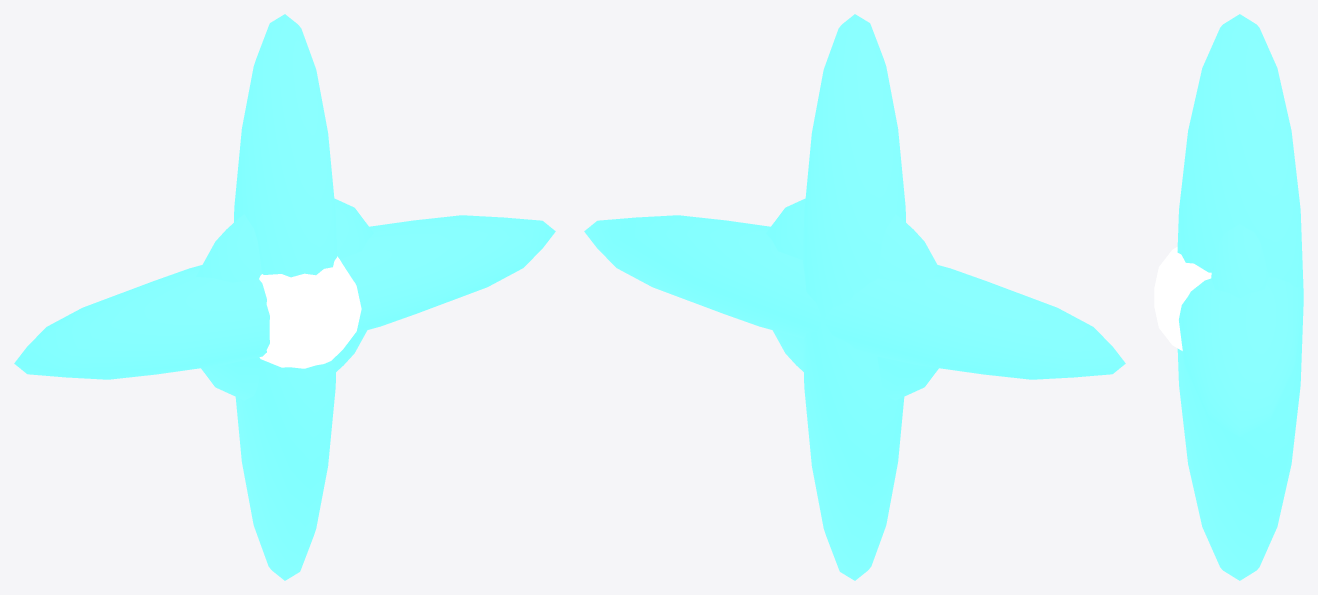
Rendered from flower_mouth.glb.
3 views of the same model, side by side, from view 1: azimuth 30°, elevation 25°; view 2: azimuth 150°, elevation 25°; view 3: azimuth 270°, elevation 25° (orthographic).
Size of the model in its own units: 0.528 by 0.528 by 0.1263.
